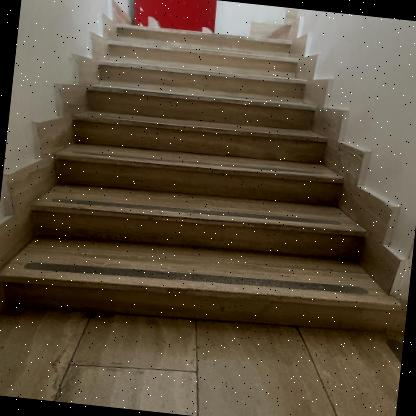stair: (9, 7, 416, 360)
